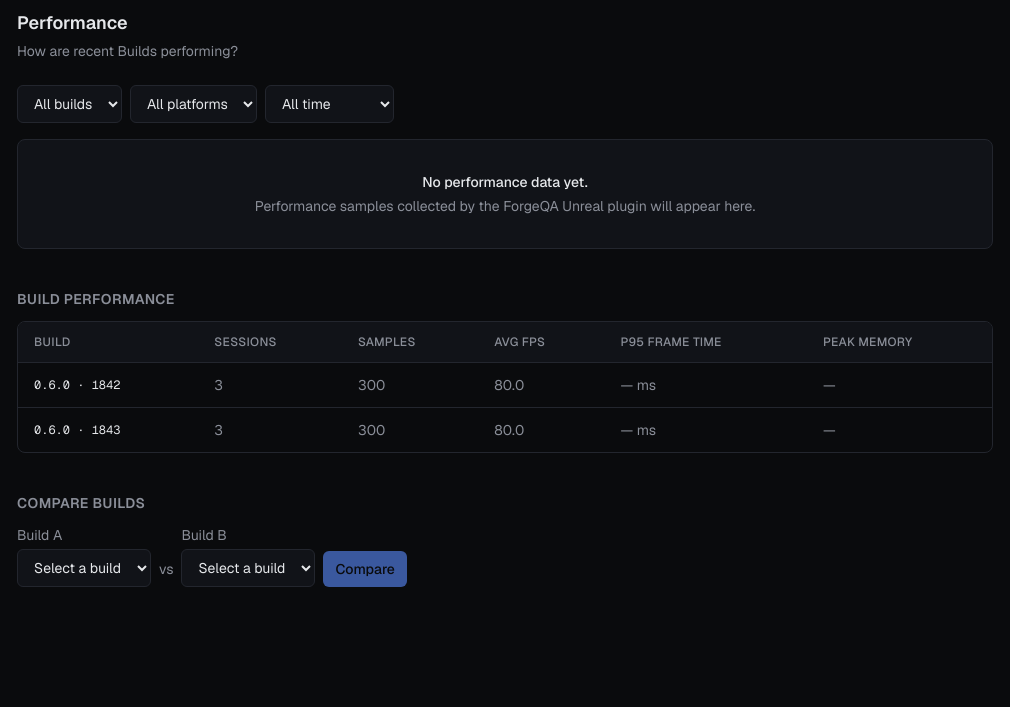
Scenario: PerformancePage › compares two builds and renders deltas
Expected: the heading "Compare Builds" is shown, [17,494,145,512]
Select "0.6.0 · 1842" in the dropdown labelled "Build A" at (84, 568), box [17,549,151,587]
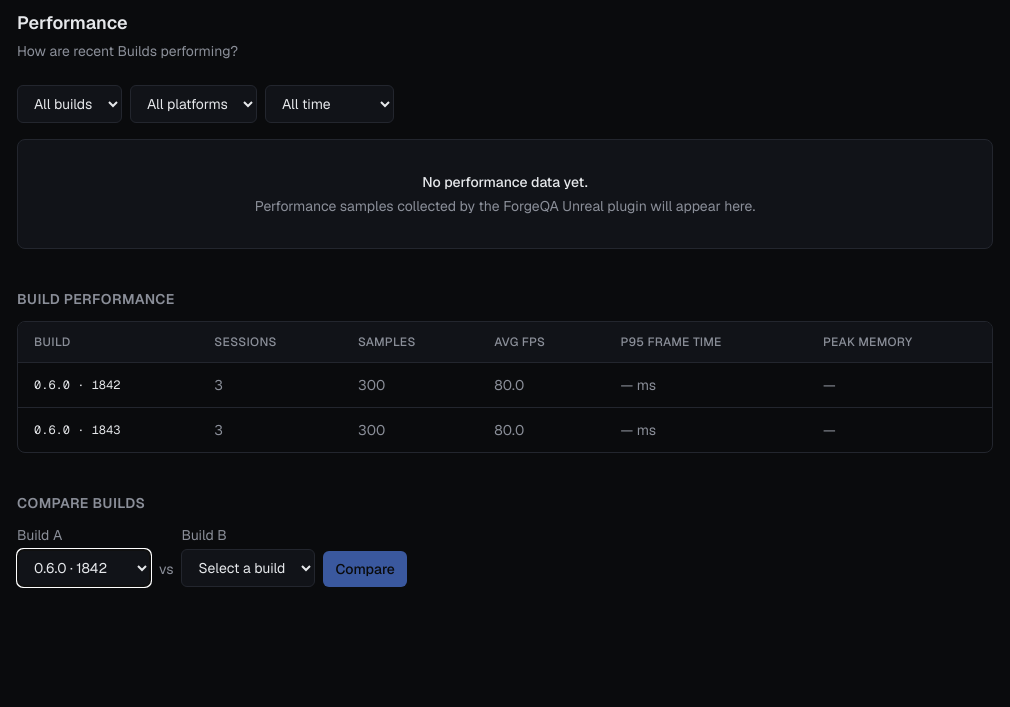
Select "0.6.0 · 1843" in the dropdown labelled "Build B" at (248, 568), box [181,549,315,587]
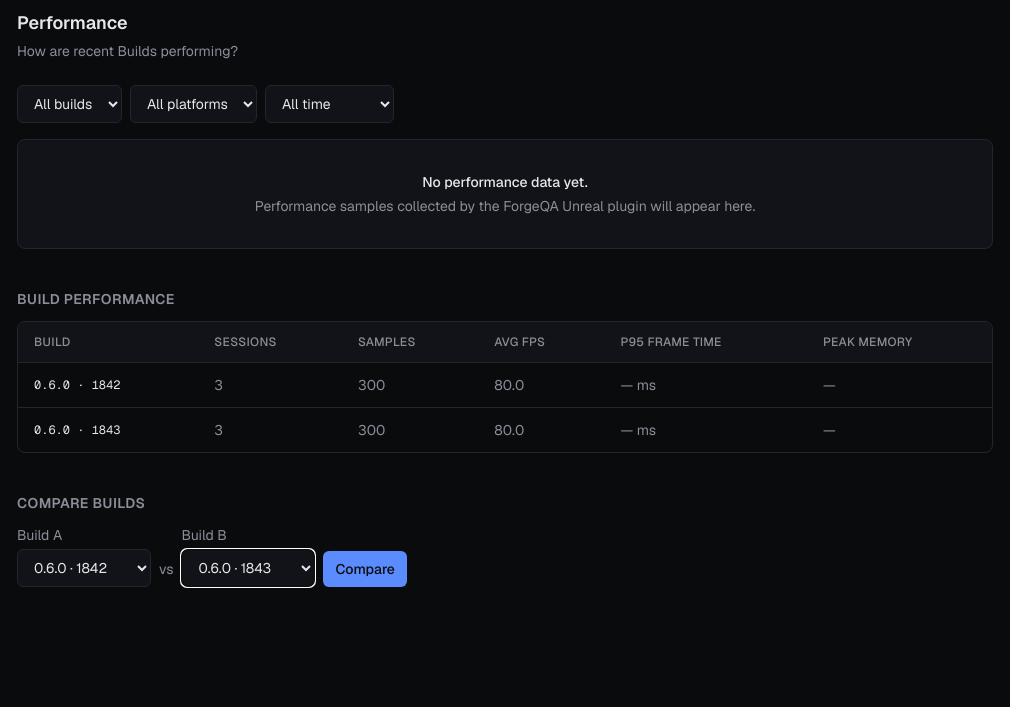
Click the button "Compare" at (365, 569), box [323,551,407,587]
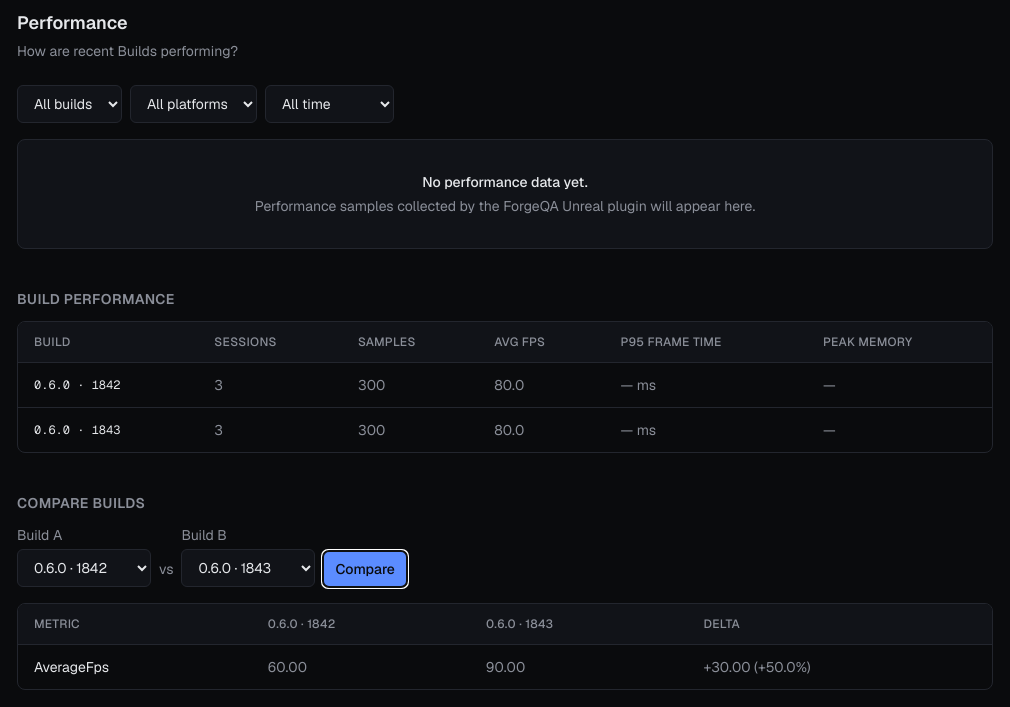
Now the text "AverageFps" is shown, box [18,644,252,689]
Now the text "+30.00 (+50.0%)" is shown, box [687,644,992,689]
